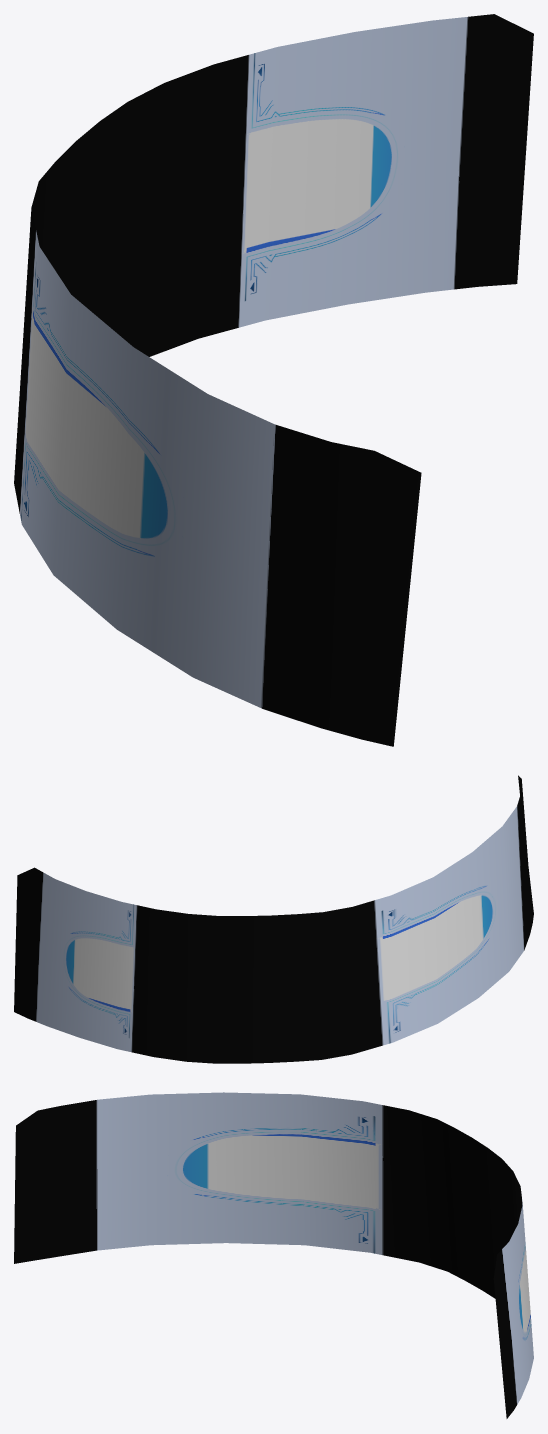
File: GuardianMesh_Arrows.fbx
The picture shows the model from 3 angles, top to bottom: view 1: azimuth 30°, elevation 25°; view 2: azimuth 150°, elevation 25°; view 3: azimuth 270°, elevation 25°; orthographic projection. The views are drawn at different scales.
Visible parts, largest first — view 1: VR_Guide_Arrow_1, VR_Guide_Arrow_2; view 2: VR_Guide_Arrow_1, VR_Guide_Arrow_2; view 3: VR_Guide_Arrow_1, VR_Guide_Arrow_2.
Boxes of the visible parts, left/top/right/bottom form: VR_Guide_Arrow_1: left=14, top=83, right=421, bottom=746; VR_Guide_Arrow_2: left=147, top=14, right=533, bottom=356; VR_Guide_Arrow_1: left=186, top=775, right=533, bottom=1063; VR_Guide_Arrow_2: left=14, top=867, right=188, bottom=1061; VR_Guide_Arrow_1: left=14, top=1092, right=517, bottom=1298; VR_Guide_Arrow_2: left=493, top=1172, right=533, bottom=1418.
Size of the model in its own units: 7.51 by 3.09 by 9.3.
